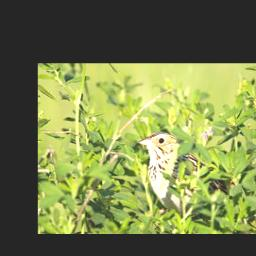Sparrow: (136, 131, 234, 223)
